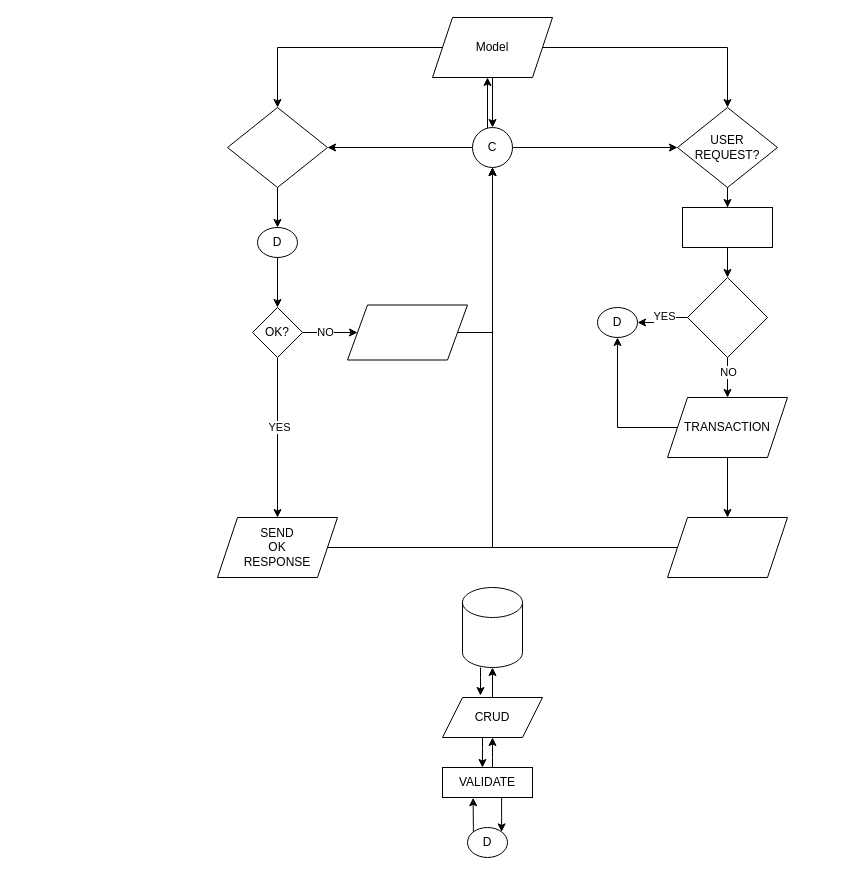
Some shapes in this 854 by 875 pixel diagram are drawn without their labels. Here are the shapes that lost their labels. From the top down, the box of each, then its label:
(226, 106, 328, 188): ADMIN REQUEST?
(682, 206, 772, 248): HANDLE REQUEST
(346, 304, 468, 360): SEND ERROR RESPONSE
(686, 276, 768, 358): CRUD?
(666, 516, 788, 578): SEND RESPONSE
(462, 586, 522, 668): DB
